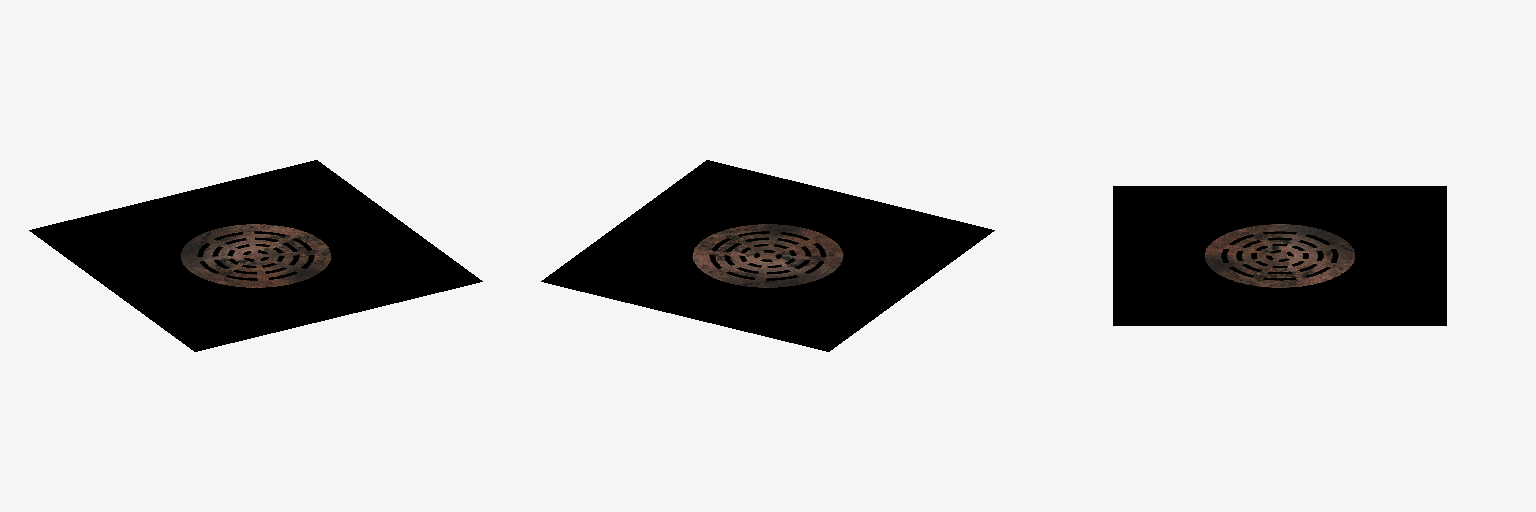
3 views of the same model, side by side, from view 1: azimuth 30°, elevation 25°; view 2: azimuth 150°, elevation 25°; view 3: azimuth 270°, elevation 25° (orthographic).
Visible parts, largest first — view 1: drain; view 2: drain; view 3: drain.
Part boxes in pixels (left/top/right/bottom): drain: left=29, top=160, right=482, bottom=351; drain: left=541, top=160, right=994, bottom=351; drain: left=1113, top=186, right=1446, bottom=325.
Bounding box in the file's own units: 128 × 0 × 128.
Materials: 1 (1 with a texture image).